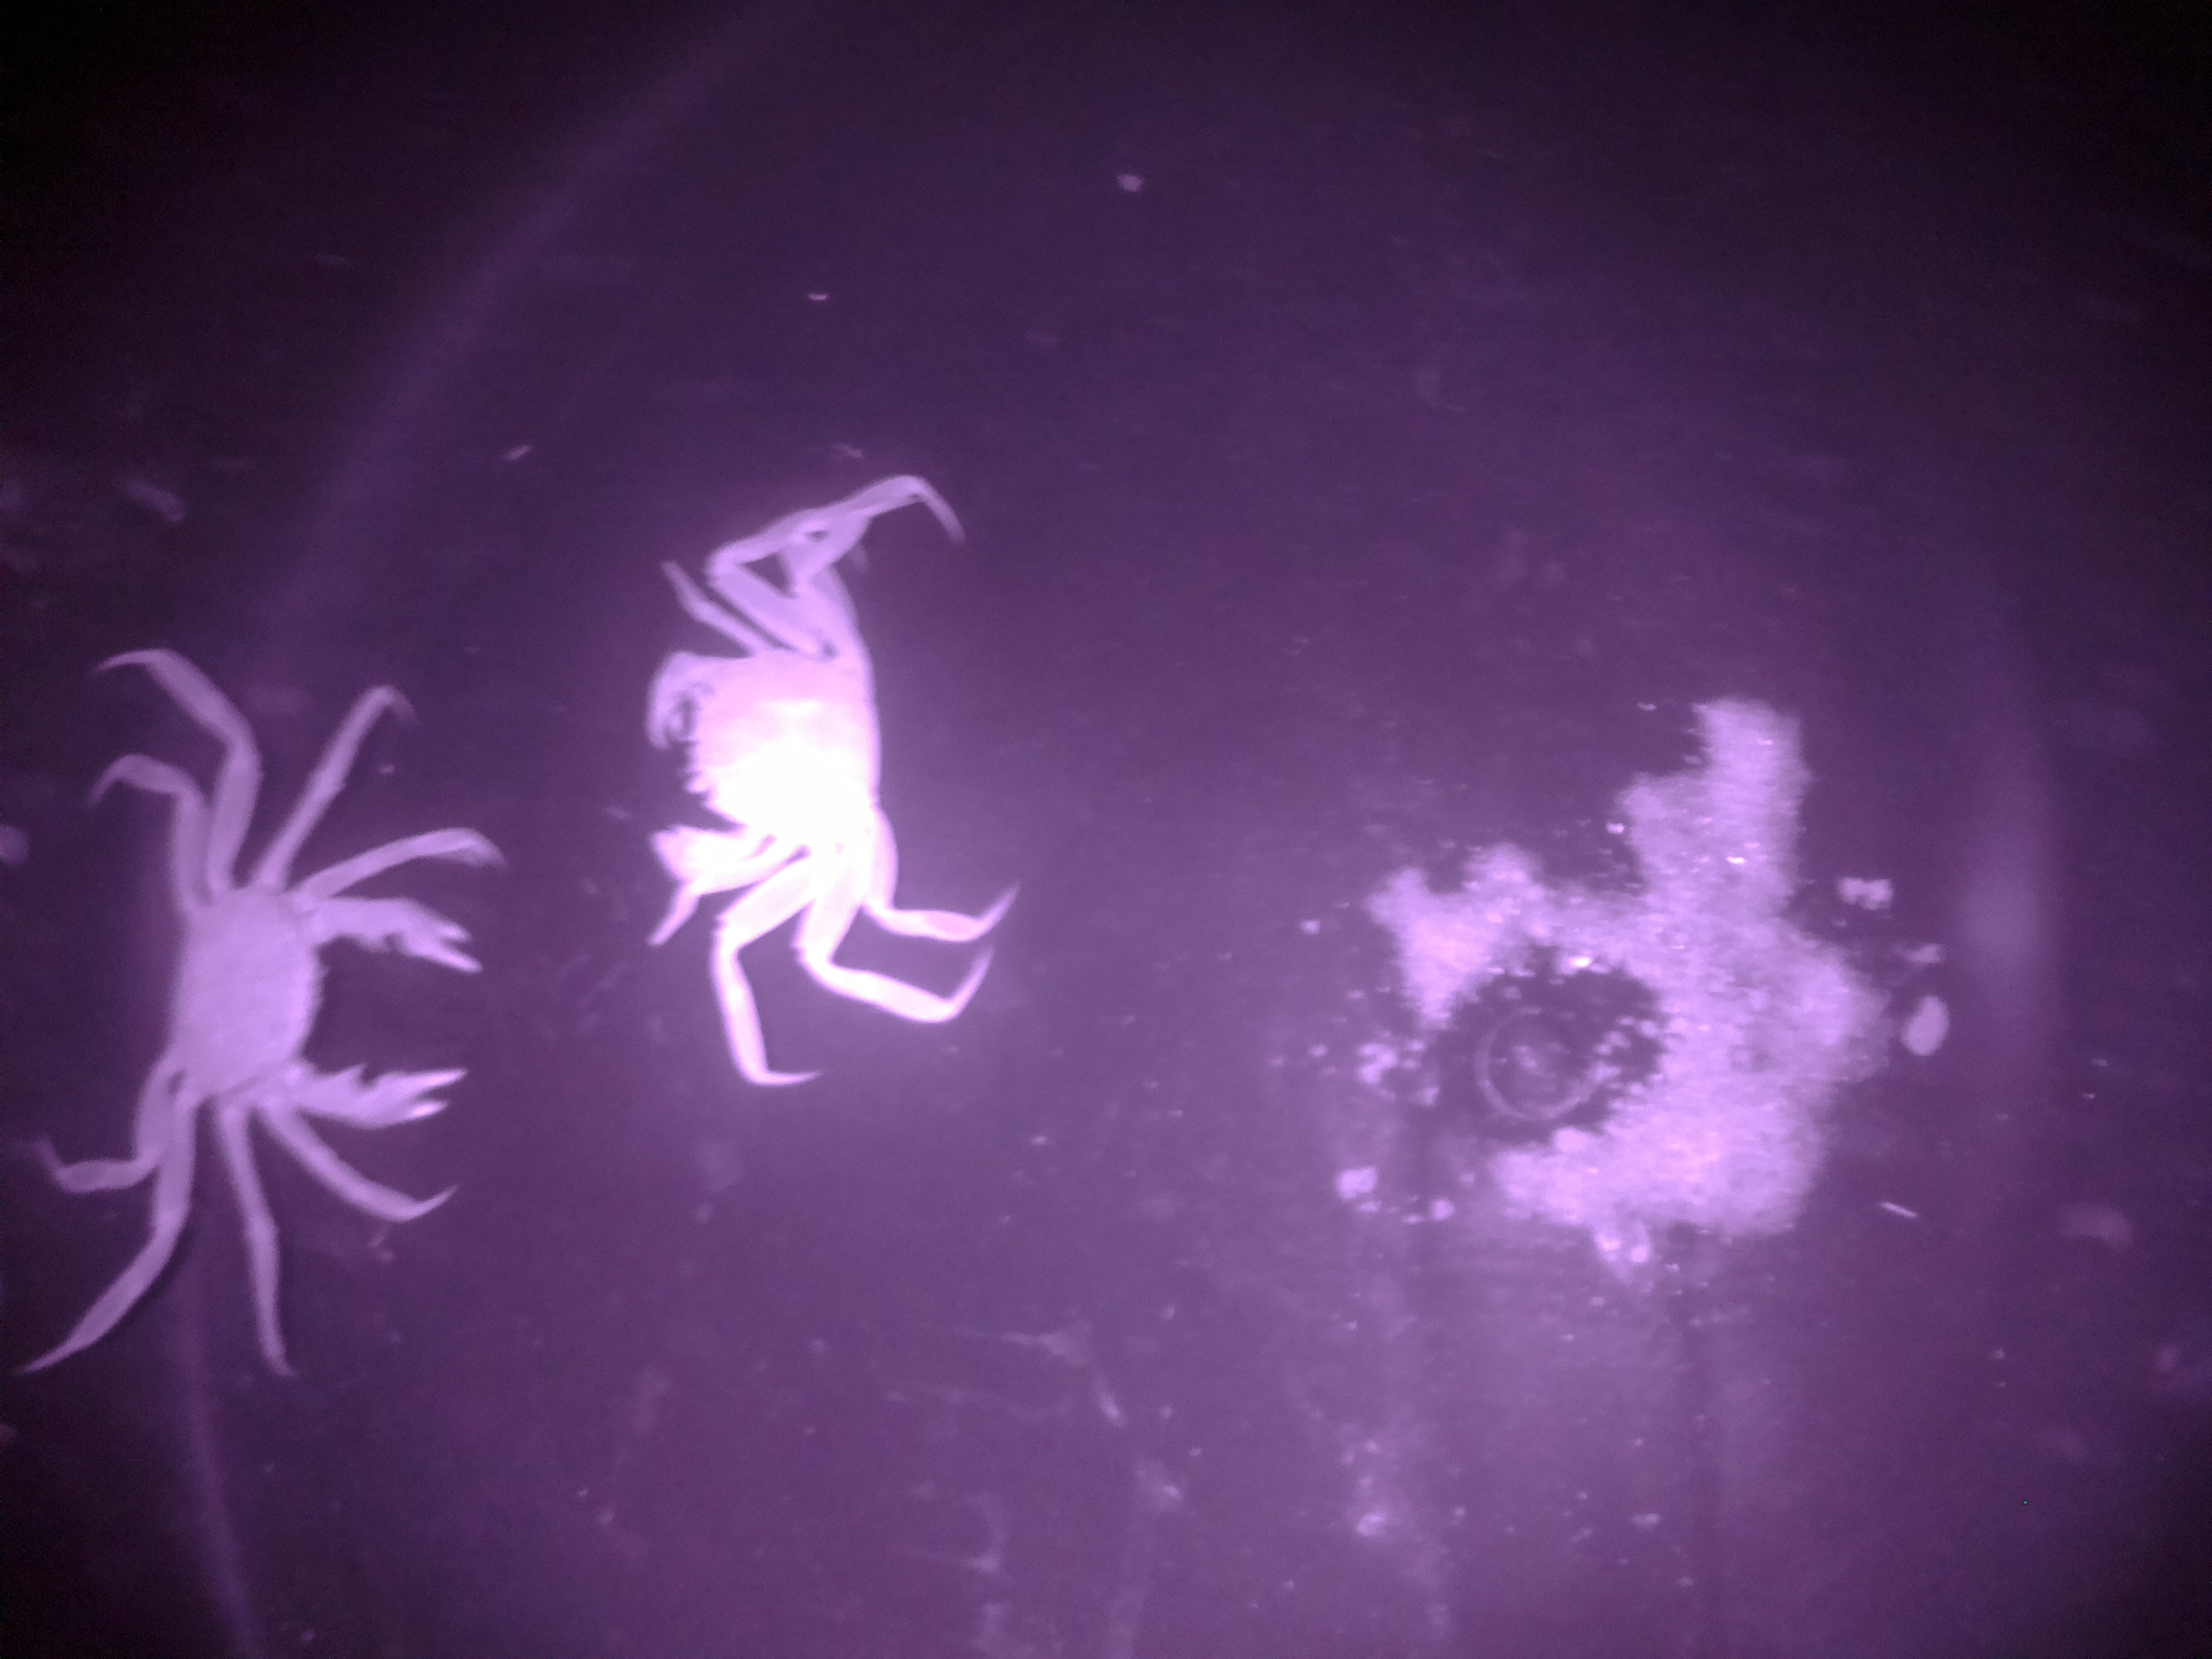Crab: (26, 720, 559, 1265), (606, 519, 1019, 1037)
